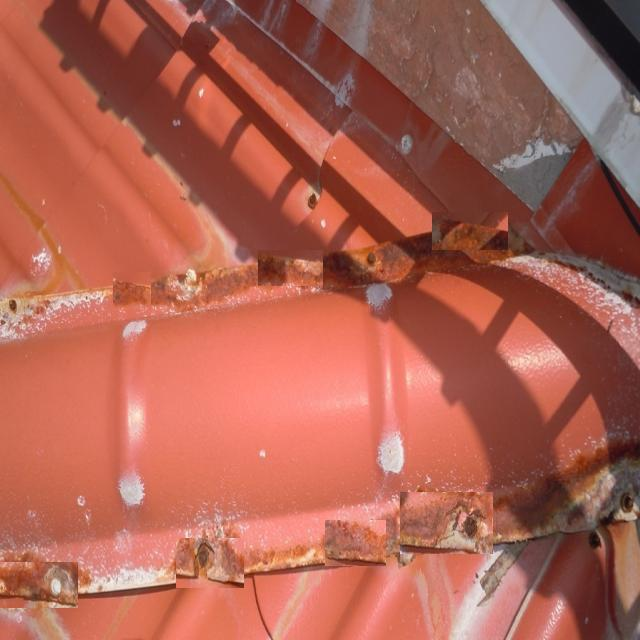Corrosion: (113, 255, 323, 305), (402, 494, 494, 554), (495, 477, 598, 526), (444, 223, 531, 264), (0, 564, 77, 610), (555, 436, 640, 476), (335, 245, 432, 276), (190, 540, 245, 588), (326, 522, 386, 564), (323, 251, 386, 288), (600, 486, 614, 512)
